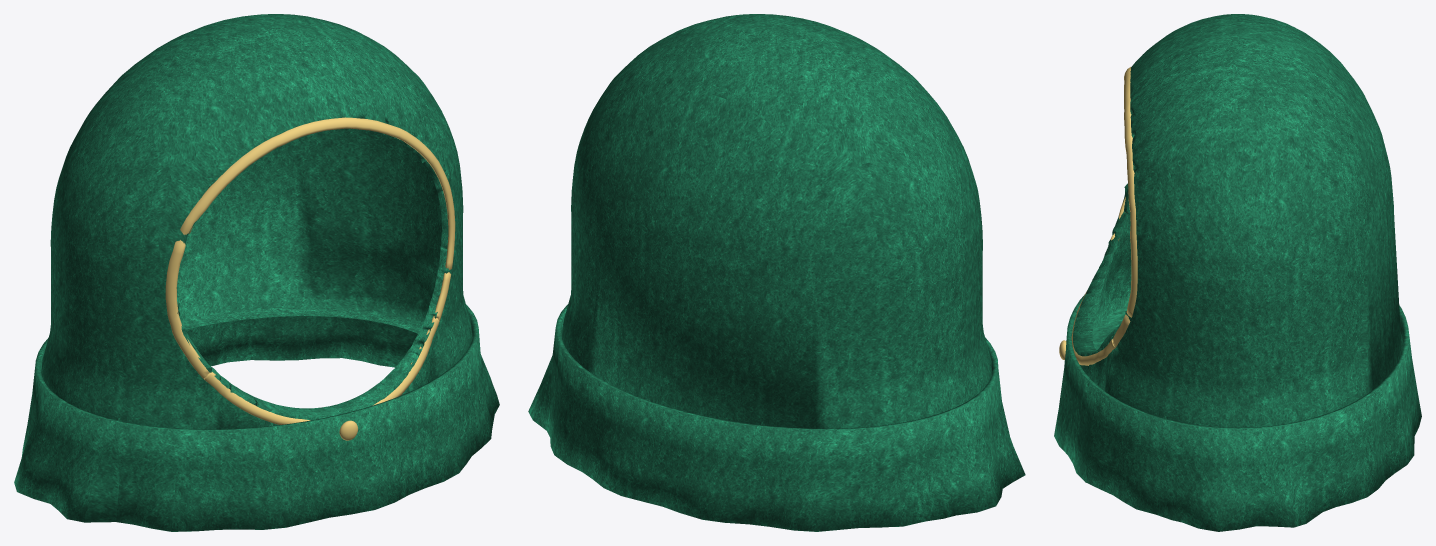
The model's file is hijab1.fbx.
3 renders of one model, left to right at view 1: azimuth 30°, elevation 25°; view 2: azimuth 150°, elevation 25°; view 3: azimuth 270°, elevation 25°, orthographic. The views are drawn at different scales.
Parts seen in each view (by area): view 1: hijab1; view 2: hijab1; view 3: hijab1.
Part boxes in pixels (x1,y1,x2,y2): hijab1: (14,14,499,531); hijab1: (528,14,1025,531); hijab1: (1054,14,1421,531).
Size of the model in its own units: 1 by 0.8699 by 0.734.
2 materials, 1 textured.
